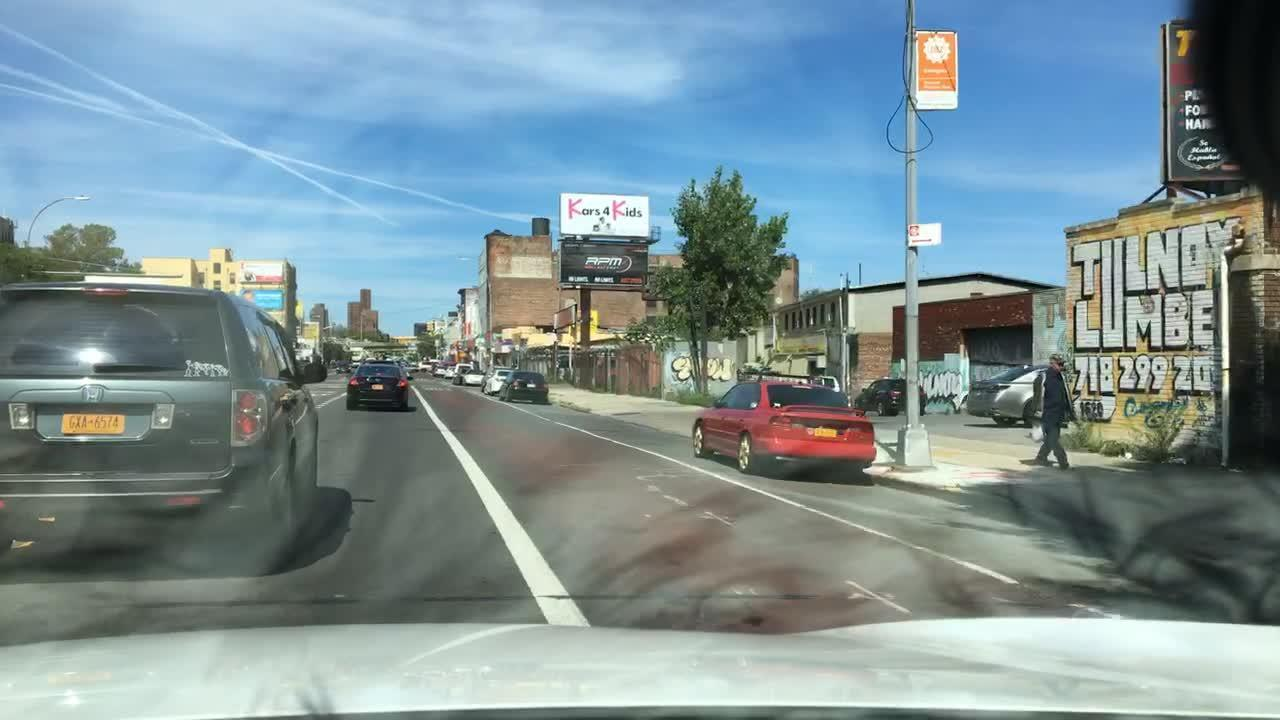Honda: (68, 379, 119, 411)
